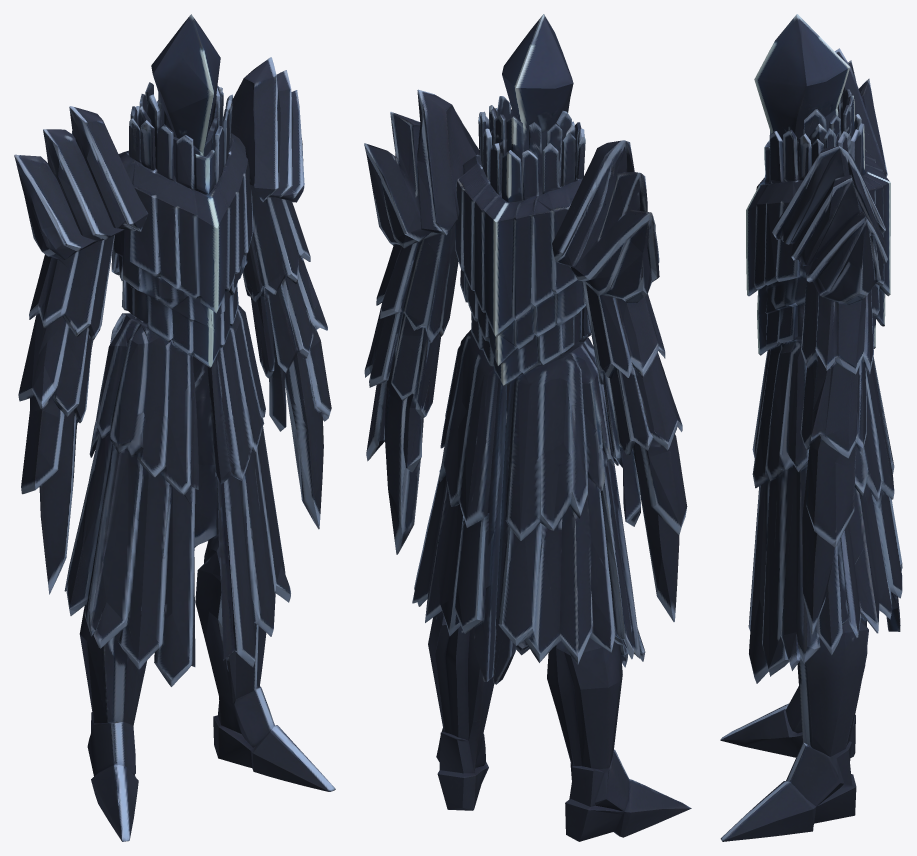
3 views of the same model, side by side, from view 1: azimuth 30°, elevation 25°; view 2: azimuth 150°, elevation 25°; view 3: azimuth 270°, elevation 25° (orthographic). The views are drawn at different scales.
Bounding box in the file's own units: 0.7835 × 1.9 × 0.4043.
Materials: 1 (1 with a texture image).
